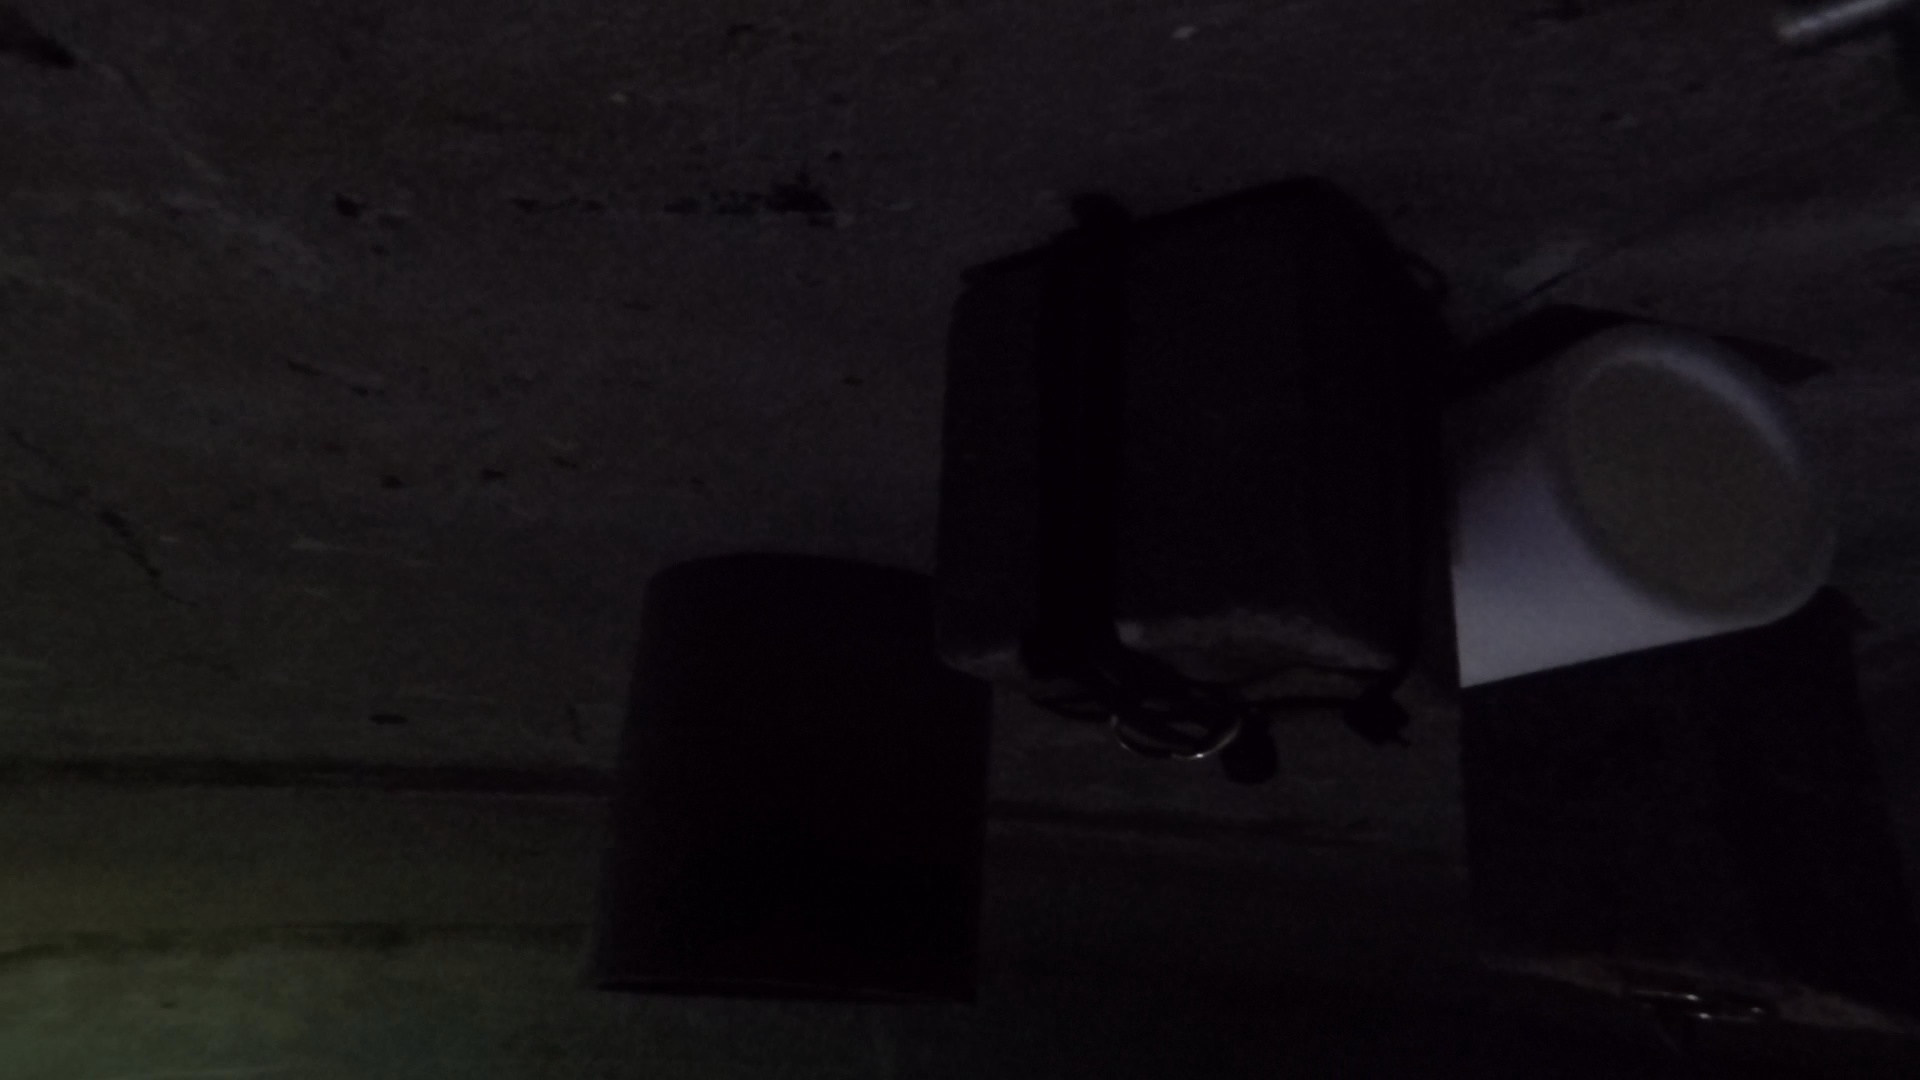bolt: (1766, 1, 1920, 59)
led_block: (924, 178, 1431, 789), (1462, 633, 1915, 1056)
pipe: (584, 549, 993, 1009), (1451, 320, 1837, 692)
